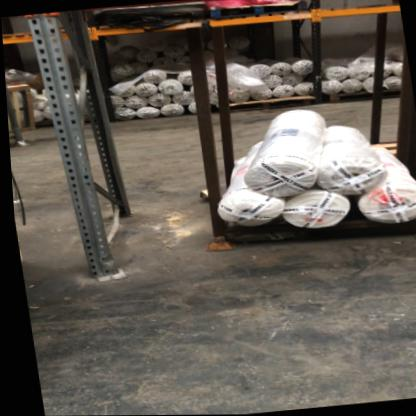vertical_damage: (78, 245, 128, 287)
